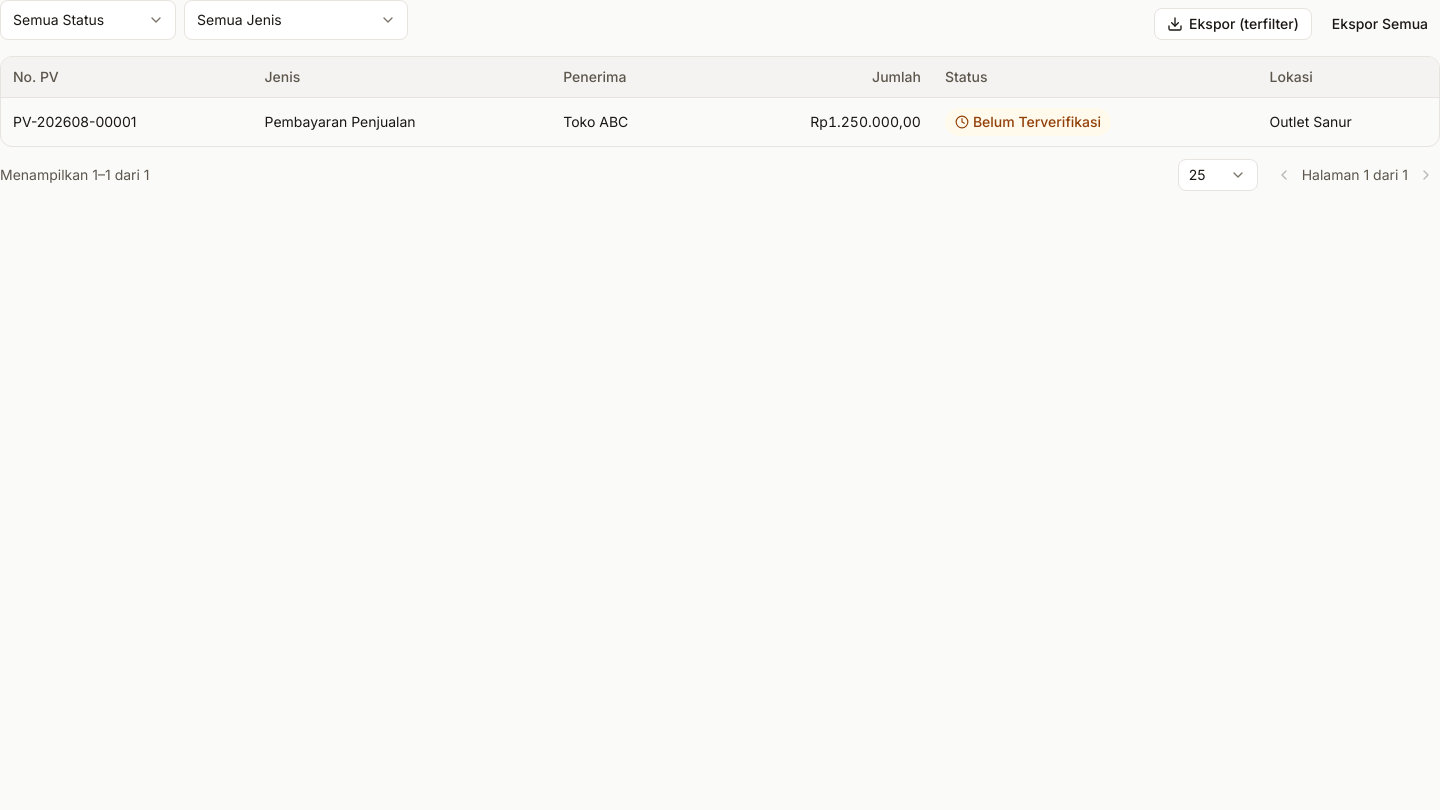
Test: PaymentsPanel — payment verification queue › disables Verifikasi on a pending PV with no proof attached yet
Click the text "PV-202608-00001" at (127, 122), box [1,98,252,146]
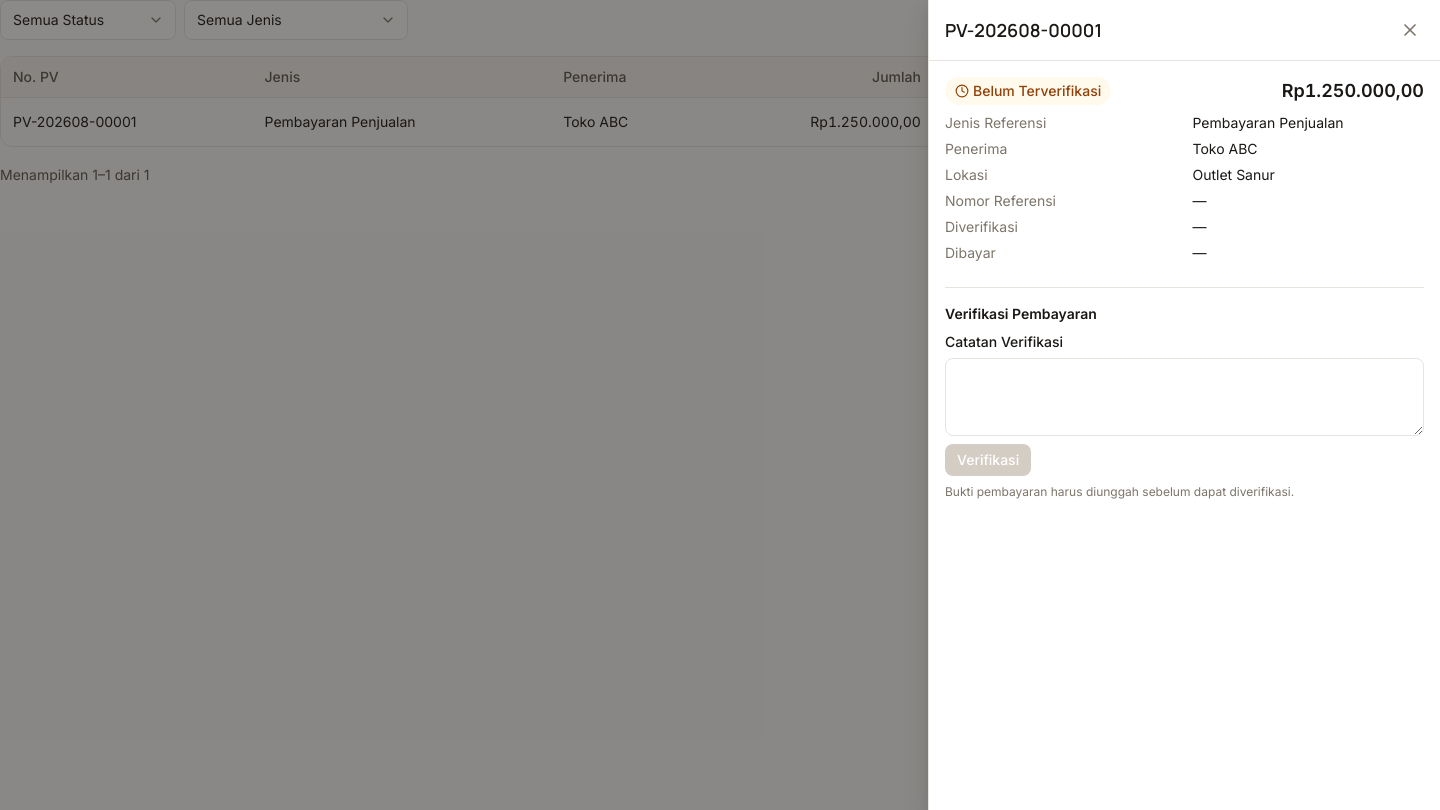
Expected: the button "Verifikasi" is disabled, [945,444,1031,476]
Expected: the text "Bukti pembayaran harus diunggah sebelum dapat diverifikasi." is shown, [945,484,1294,499]
